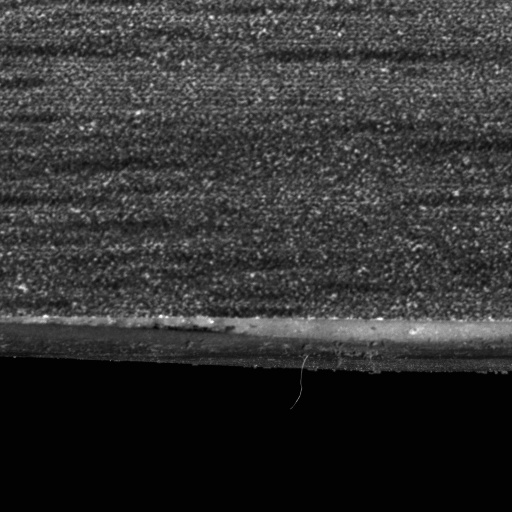kaijiao: (0, 308, 511, 378)
